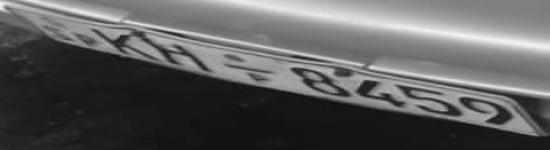-: (216, 60, 280, 79)
4: (344, 75, 415, 111)
5: (389, 81, 473, 122)
8: (287, 64, 360, 101)
9: (451, 92, 528, 133)
H: (133, 32, 226, 78)
K: (88, 26, 167, 65)
P: (71, 31, 109, 49)
S: (35, 23, 81, 45)
